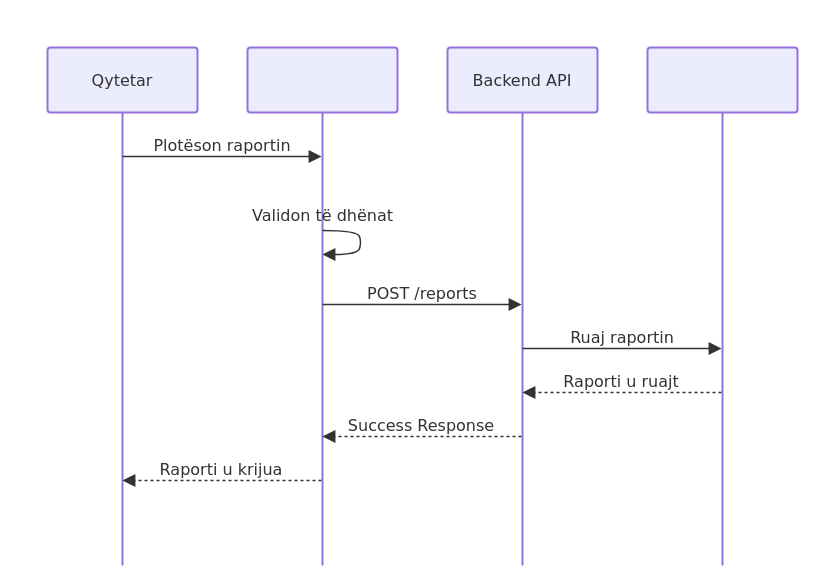
Image size: 815x583. Some labels were removed from this diagram. Each missing label, with the box of its shape:
Database: (646, 46, 798, 566)
Frontend: (246, 46, 398, 566)
